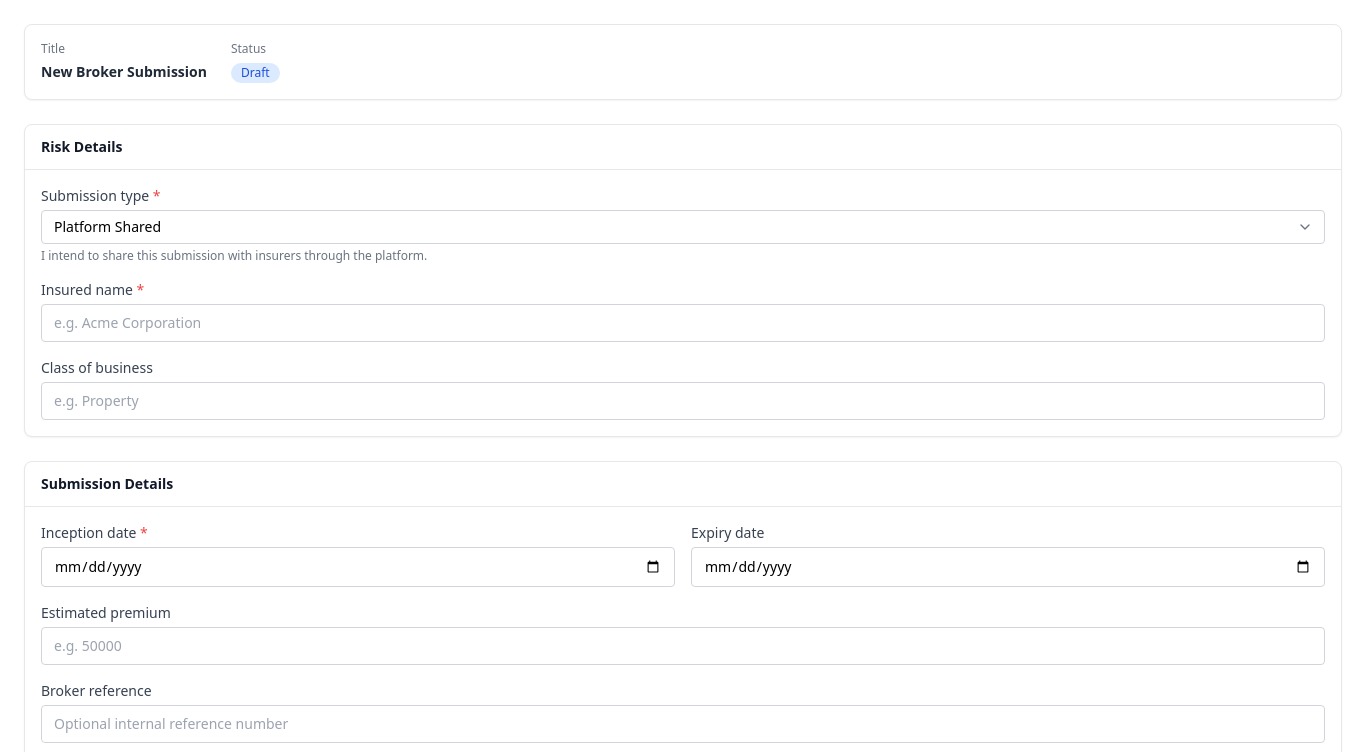
REQ-PSS-BRK-NEW-F-007/008 — Required field validation › T-PSS-BRK-NEW-F007: shows a validation error and does not submit when insured name is empty
The width and height of the screenshot is (1366, 752).
Type "2026-01-01" into the date field labelled "Inception date *".
click(358, 567); type("2026-01-01")  # box [41, 547, 675, 587]
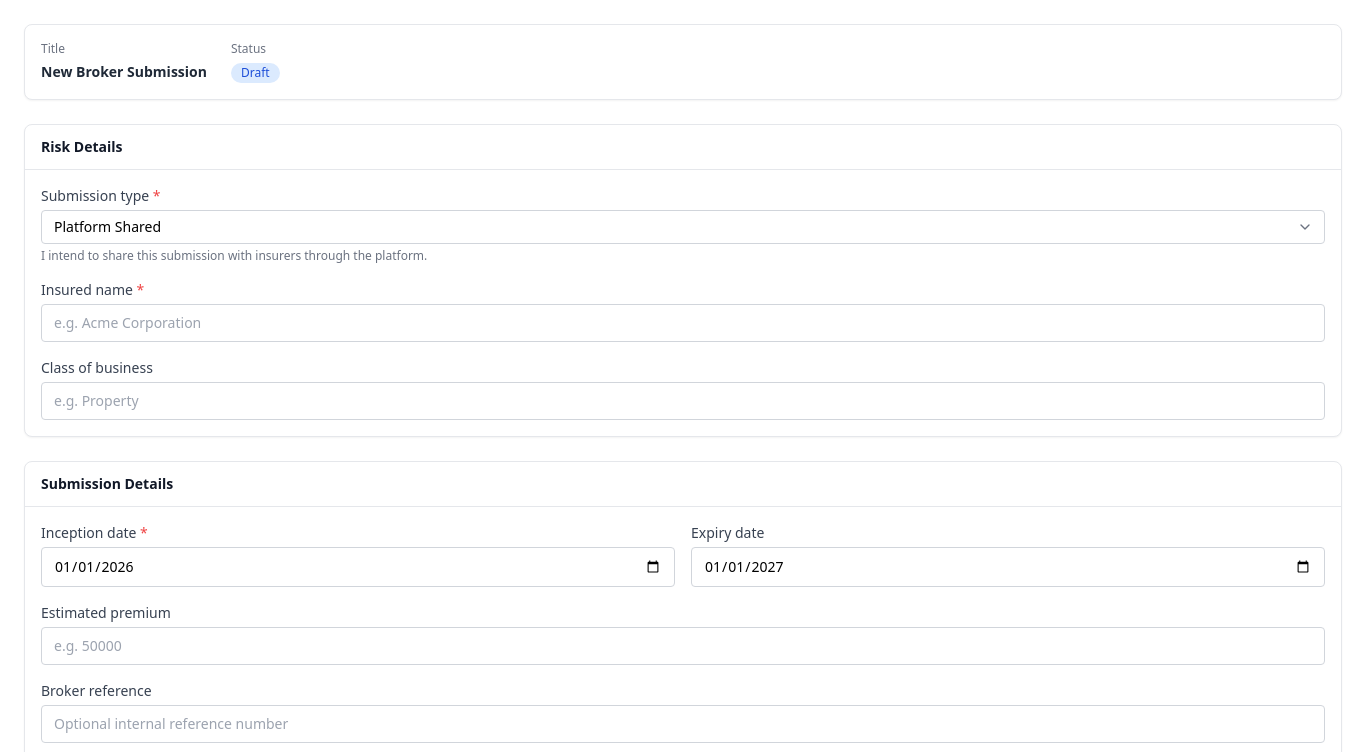
Clear the field labelled "Submission type *" at (683, 227), box [41, 210, 1325, 244]
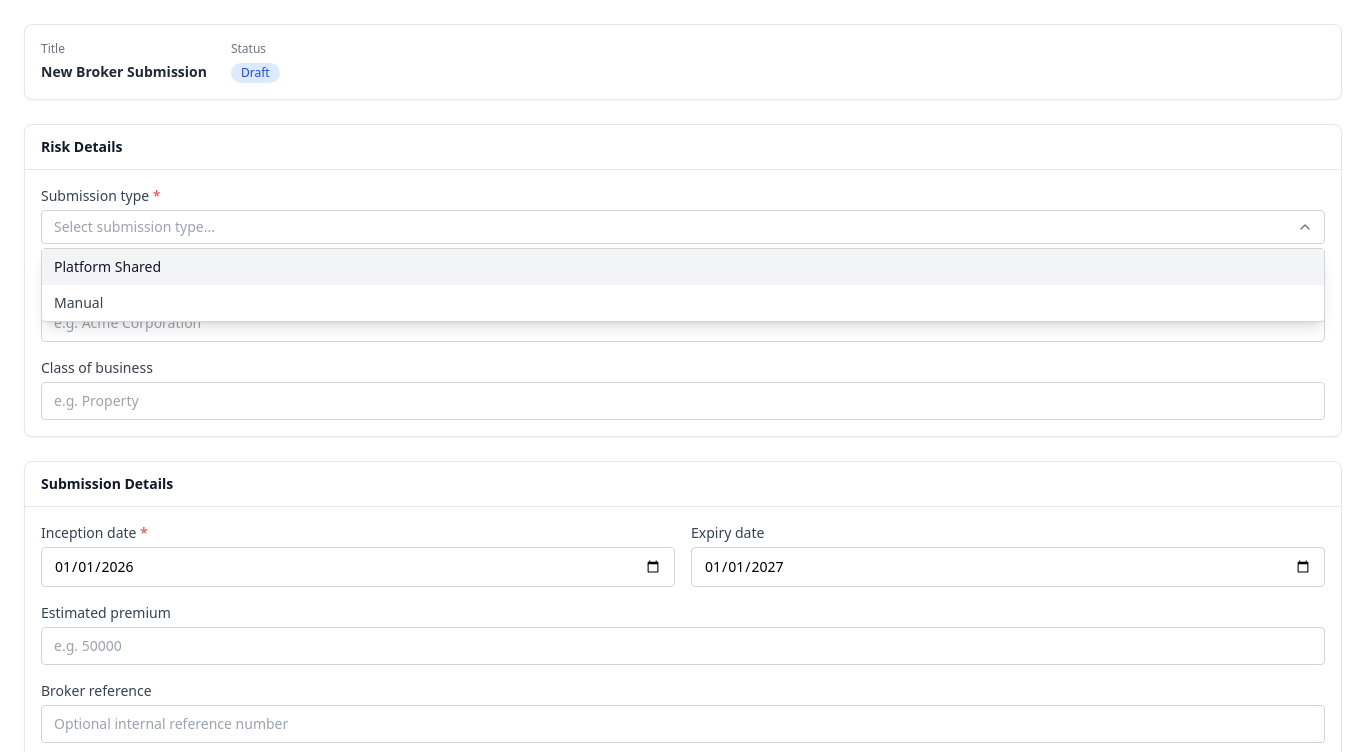
Click the button "Manual".
click(79, 302)  # box [42, 285, 1324, 321]
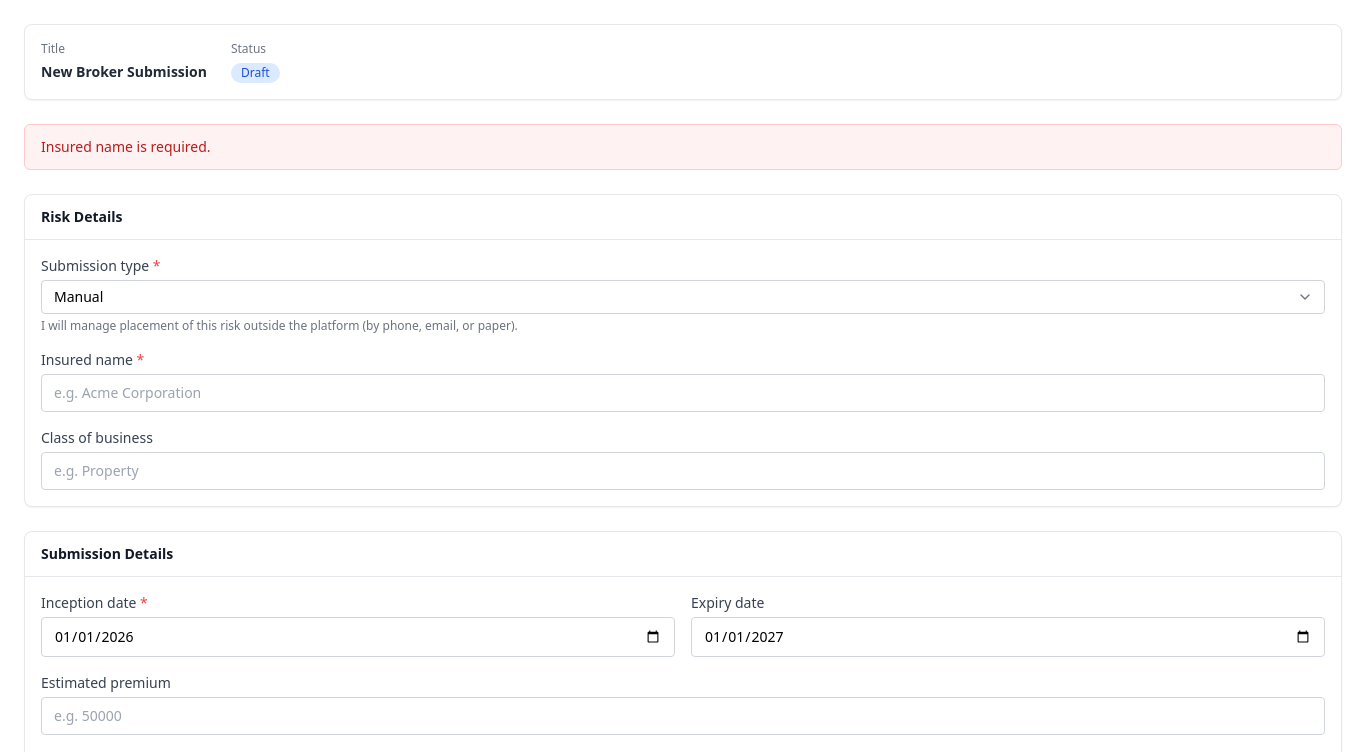
Result: the message "Insured name is required." is shown at [24, 124, 1342, 170]
